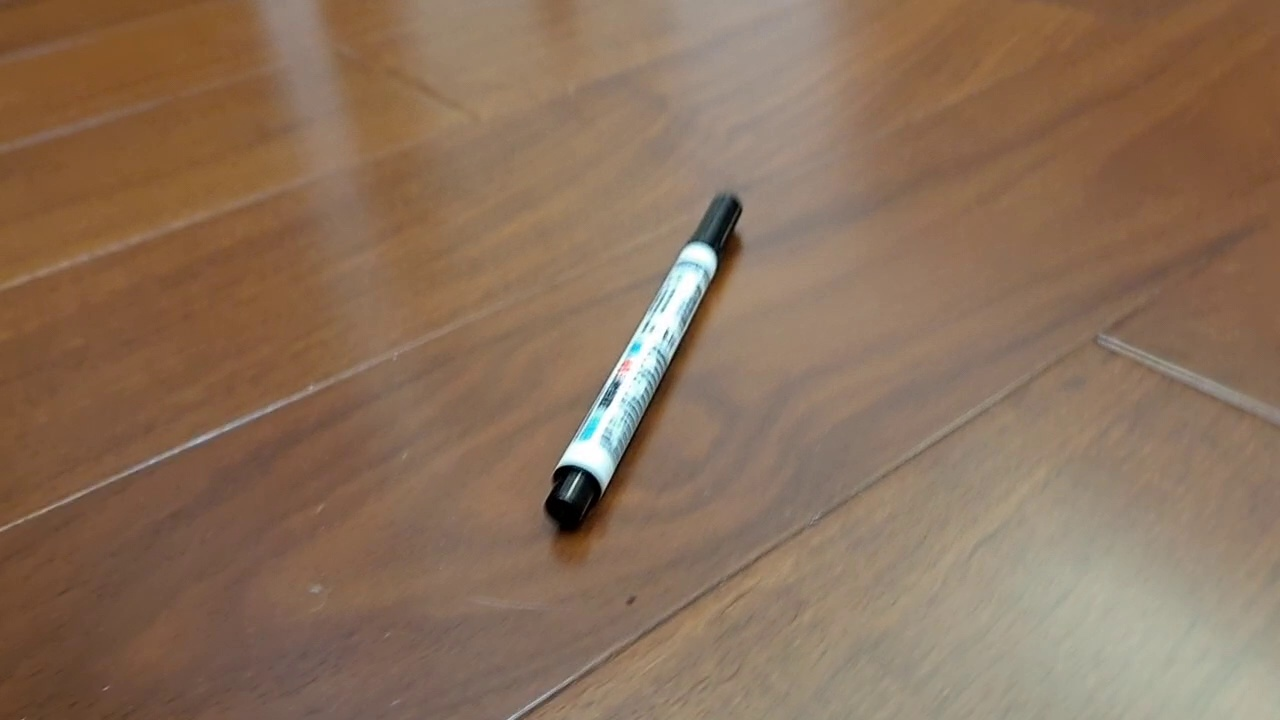pen: (544, 191, 744, 533)
